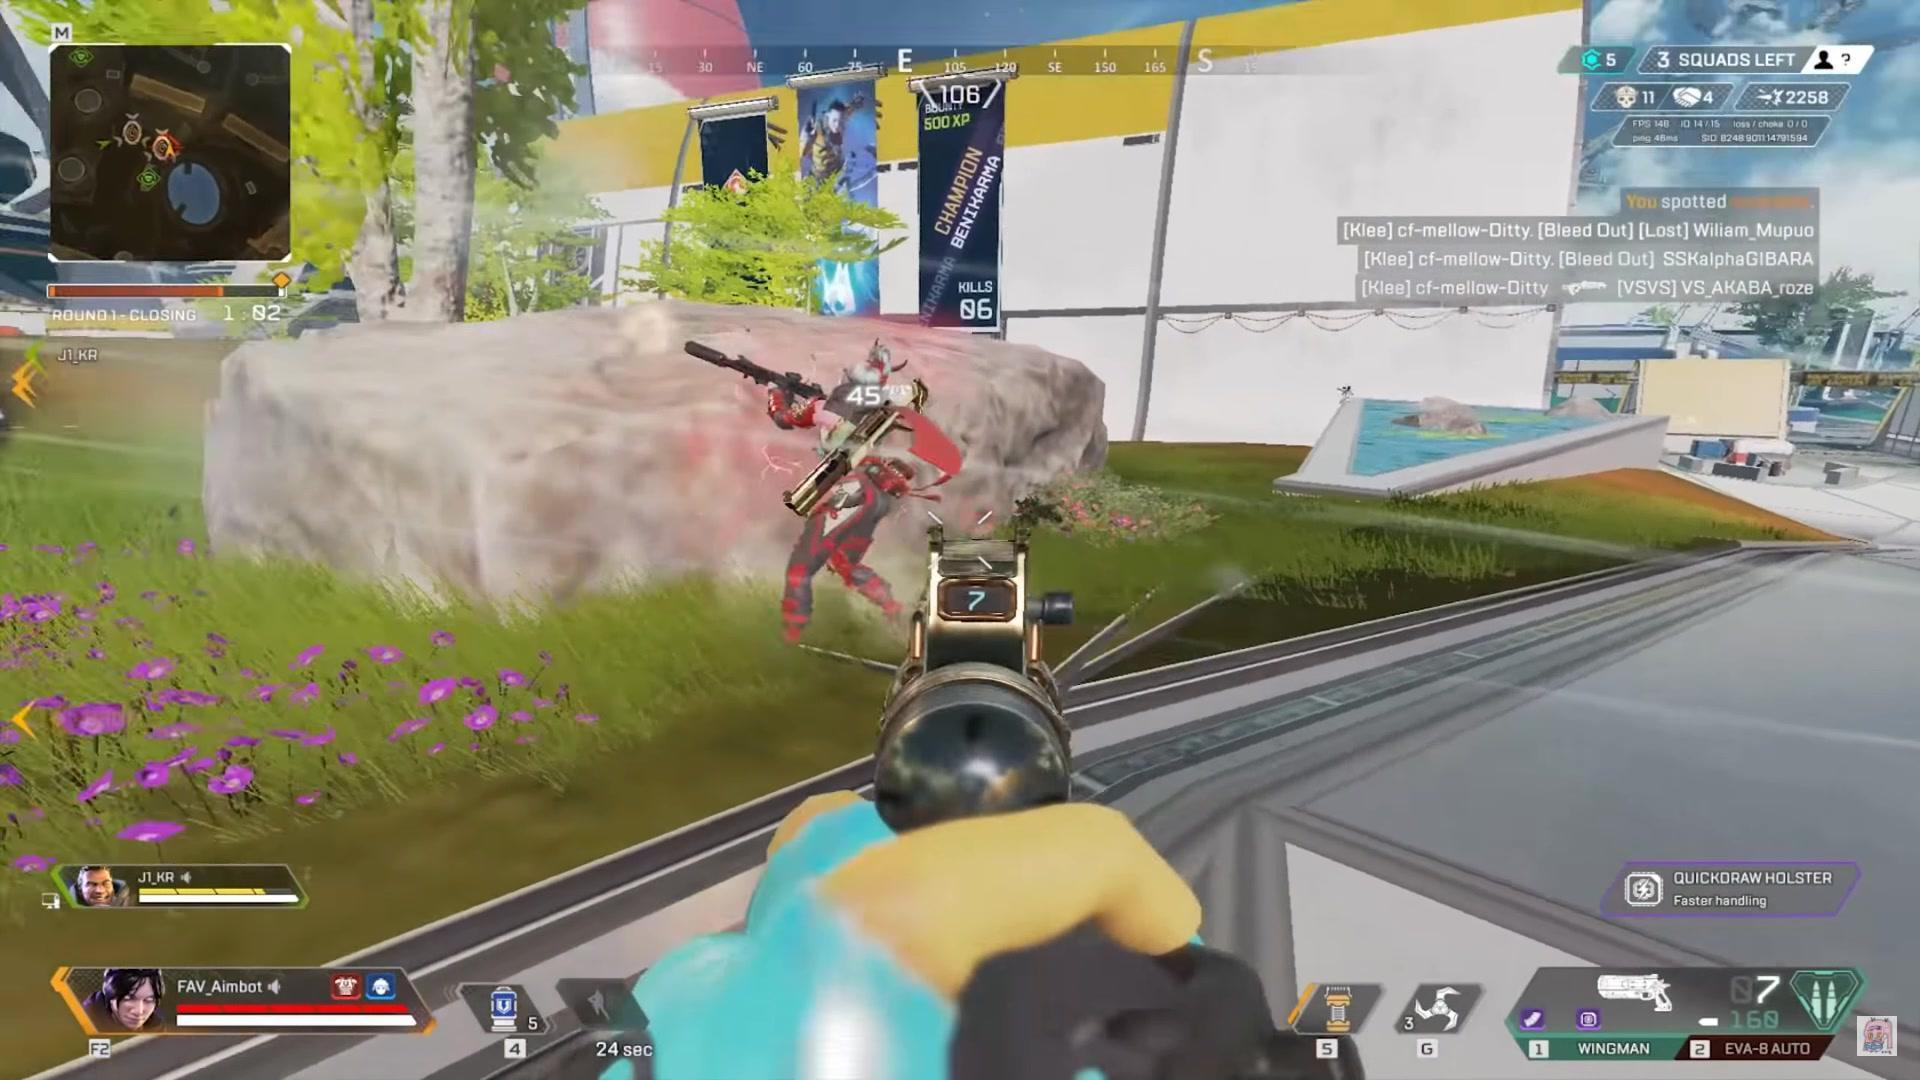avatar: (769, 343, 916, 636)
